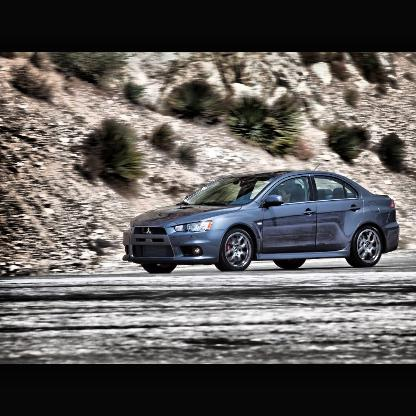Mitsubishi Lancer Sedan 2012: (123, 168, 402, 272)
